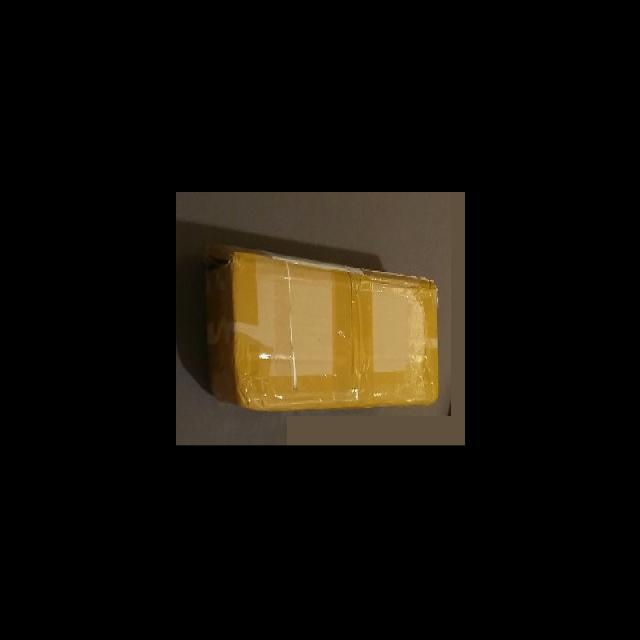Cardboard: (173, 221, 438, 407)
